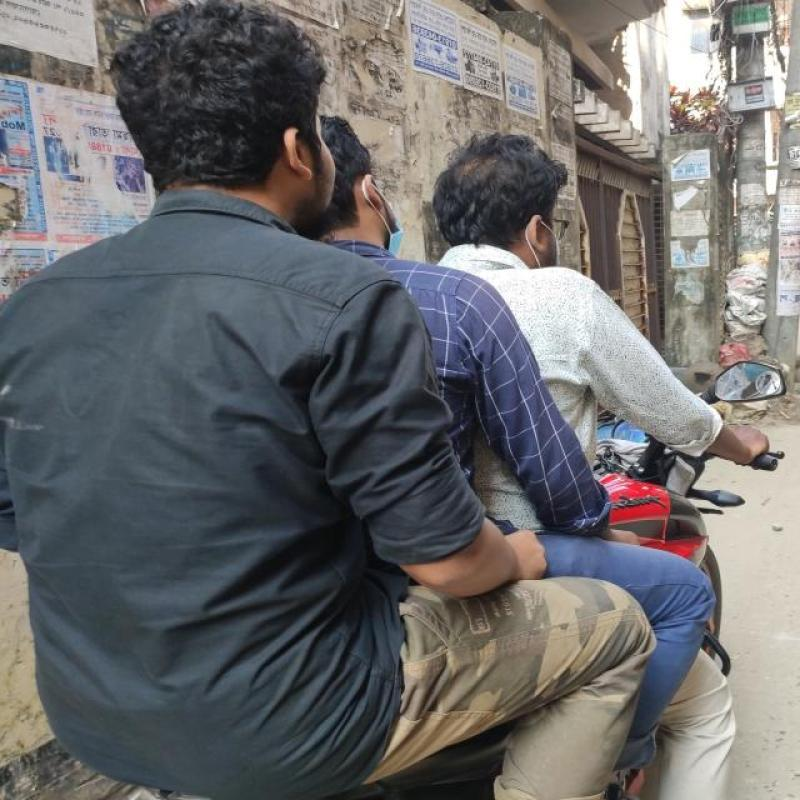nohelmet: (98, 0, 343, 212), (410, 97, 610, 287)
